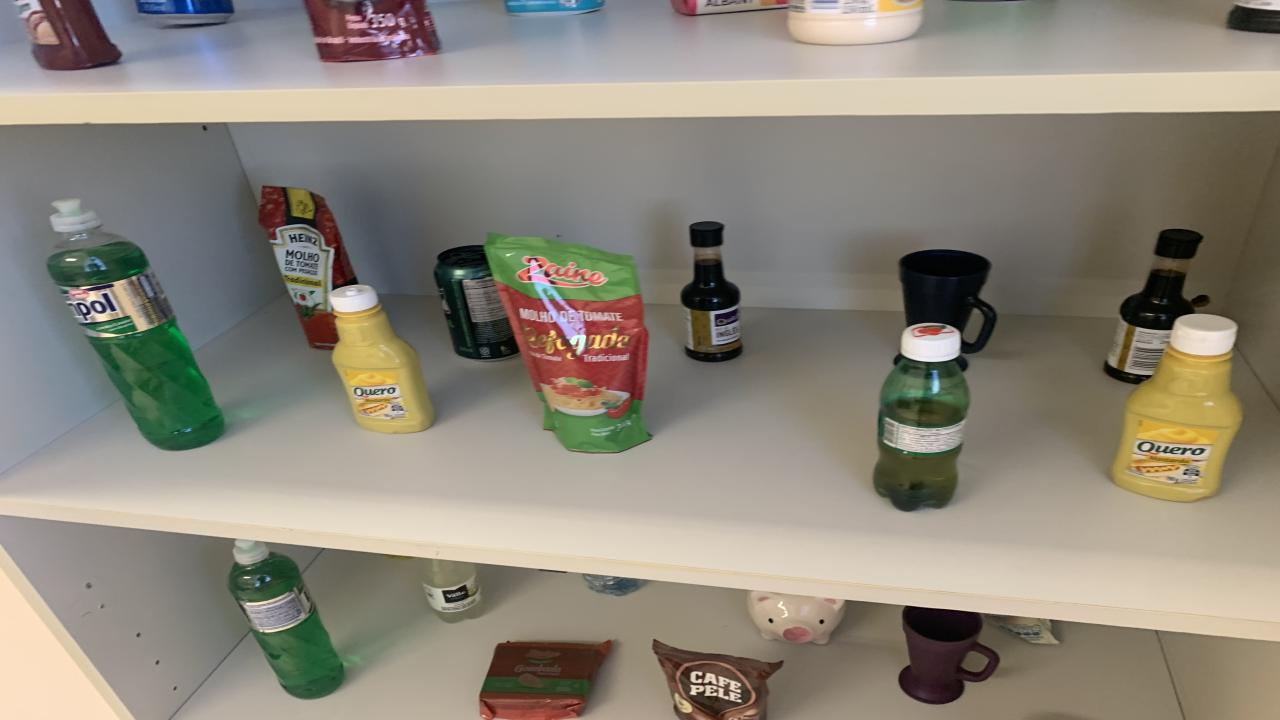Cleaner-Cleanup_Items: (505, 0, 605, 15)
Coffee-Pantry_Items: (652, 639, 782, 720)
Detergent-Cleanup_Items: (48, 199, 222, 450), (228, 540, 345, 699)
English_Sauce-Pantry_Items: (1105, 229, 1202, 384), (680, 221, 742, 362), (1228, 0, 1280, 34)
Flakes-Snacks: (985, 613, 1060, 645)
Guarana-Drinks: (872, 322, 970, 512)
Guarana_Can-Drinks: (435, 246, 518, 360)
Guava-Snacks: (480, 639, 612, 720)
Ketchup-Pantry_Items: (15, 0, 122, 69)
Mayonnaise-Pantry_Items: (788, 0, 922, 45)
Mustard-Pantry_Items: (1112, 315, 1242, 502), (328, 285, 435, 433)
Pig_Safe-Miscellaneous: (748, 591, 845, 645)
Soap-Cleanup_Items: (670, 0, 788, 15)
Soda-Drinks: (422, 559, 482, 622)
Tomato_Sauce-Pantry_Items: (485, 234, 650, 452), (260, 186, 358, 349), (305, 0, 440, 62)
Tonic-Drinks: (135, 0, 235, 26)
Water_Bottle-Drinks: (582, 574, 645, 596)
